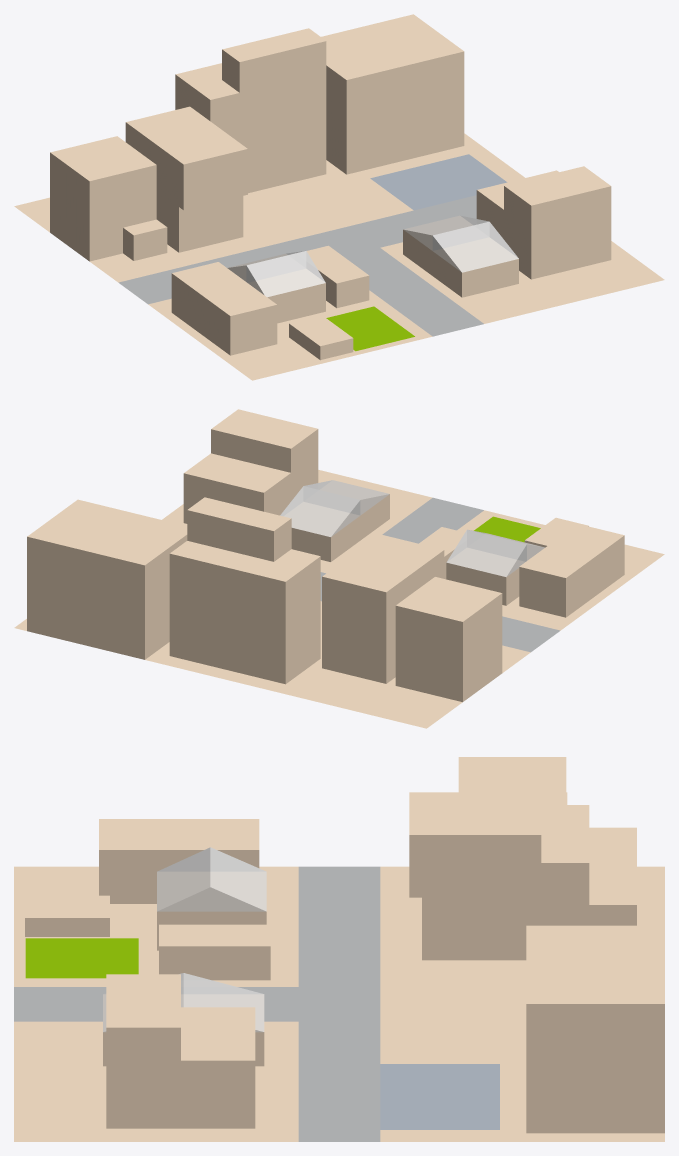
Rendered from map10.gltf.
3 renders of one model, top to bottom at view 1: azimuth 30°, elevation 25°; view 2: azimuth 150°, elevation 25°; view 3: azimuth 270°, elevation 25°, orthographic. The views are drawn at different scales.
Parts seen in each view (by area): view 1: Node6, Node69, Node17, Node4, Node24, Node15, Node1, Node78, Node2, Node73, Node5, Node11 (+33 smaller); view 2: Node71, Node16, Node6, Node13, Node15, Node10, Node11, Node72, Node8, Node1, Node33, Node76 (+31 smaller); view 3: Node6, Node18, Node4, Node12, Node25, Node2, Node15, Node1, Node3, Node5, Node73, Node11 (+25 smaller).
Part boxes in pixels (left/top/right/bottom): Node6: left=14, top=133, right=524, bottom=282; Node69: left=210, top=41, right=326, bottom=193; Node17: left=346, top=51, right=464, bottom=174; Node4: left=380, top=241, right=664, bottom=323; Node24: left=531, top=186, right=611, bottom=279; Node15: left=321, top=14, right=463, bottom=79; Node1: left=148, top=290, right=432, bottom=380; Node78: left=89, top=165, right=156, bottom=261; Node2: left=118, top=195, right=476, bottom=293; Node73: left=370, top=154, right=507, bottom=210; Node5: left=340, top=209, right=483, bottom=330; Node11: left=126, top=106, right=247, bottom=164; Node71: left=169, top=553, right=285, bottom=684; Node16: left=27, top=536, right=144, bottom=659; Node6: left=14, top=601, right=530, bottom=728; Node13: left=322, top=576, right=386, bottom=683; Node15: left=27, top=499, right=187, bottom=565; Node10: left=395, top=605, right=462, bottom=702; Node11: left=322, top=534, right=443, bottom=592; Node72: left=285, top=556, right=320, bottom=683; Node8: left=463, top=593, right=502, bottom=701; Node1: left=457, top=510, right=664, bottom=630; Node33: left=519, top=524, right=624, bottom=577; Node76: left=187, top=510, right=273, bottom=561; Node6: left=380, top=866, right=664, bottom=1141; Node18: left=526, top=1004, right=664, bottom=1133; Node4: left=14, top=1021, right=298, bottom=1141; Node12: left=409, top=835, right=541, bottom=960; Node25: left=106, top=1027, right=255, bottom=1128; Node2: left=339, top=866, right=380, bottom=1141; Node15: left=526, top=925, right=664, bottom=1003; Node1: left=14, top=866, right=298, bottom=986; Node3: left=14, top=866, right=339, bottom=1004; Node5: left=14, top=1004, right=339, bottom=1141; Node73: left=380, top=1064, right=499, bottom=1129; Node11: left=409, top=792, right=567, bottom=834.
Bounding box in the file's own units: 2139194 × 659553 × 2139194.
